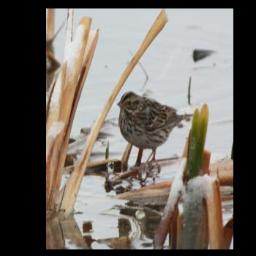Sparrow: (116, 89, 194, 176)
